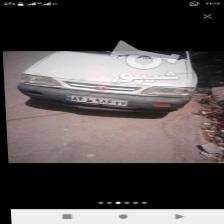plate: (64, 93, 126, 106)
